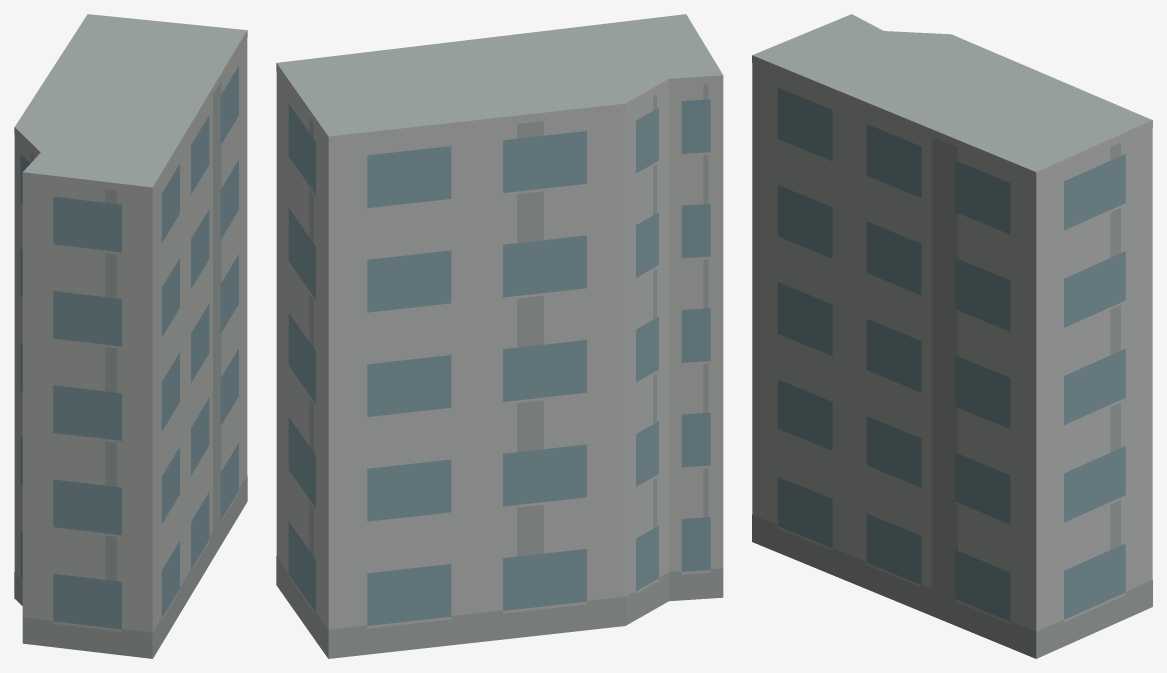
The model's file is survey-upis-32799485.glb.
3 renders of one model, left to right at view 1: azimuth 30°, elevation 25°; view 2: azimuth 150°, elevation 25°; view 3: azimuth 270°, elevation 25°, orthographic. The views are drawn at different scales.
Parts seen in each view (by area): view 1: survey-upis-32799485.tmp; view 2: survey-upis-32799485.tmp; view 3: survey-upis-32799485.tmp.
Part boxes in pixels (x1=…): survey-upis-32799485.tmp: x1=14, y1=14, x2=247, y2=658; survey-upis-32799485.tmp: x1=276, y1=14, x2=723, y2=658; survey-upis-32799485.tmp: x1=752, y1=14, x2=1152, y2=658.
Size of the model in its own units: 10.63 by 15.25 by 11.38.
